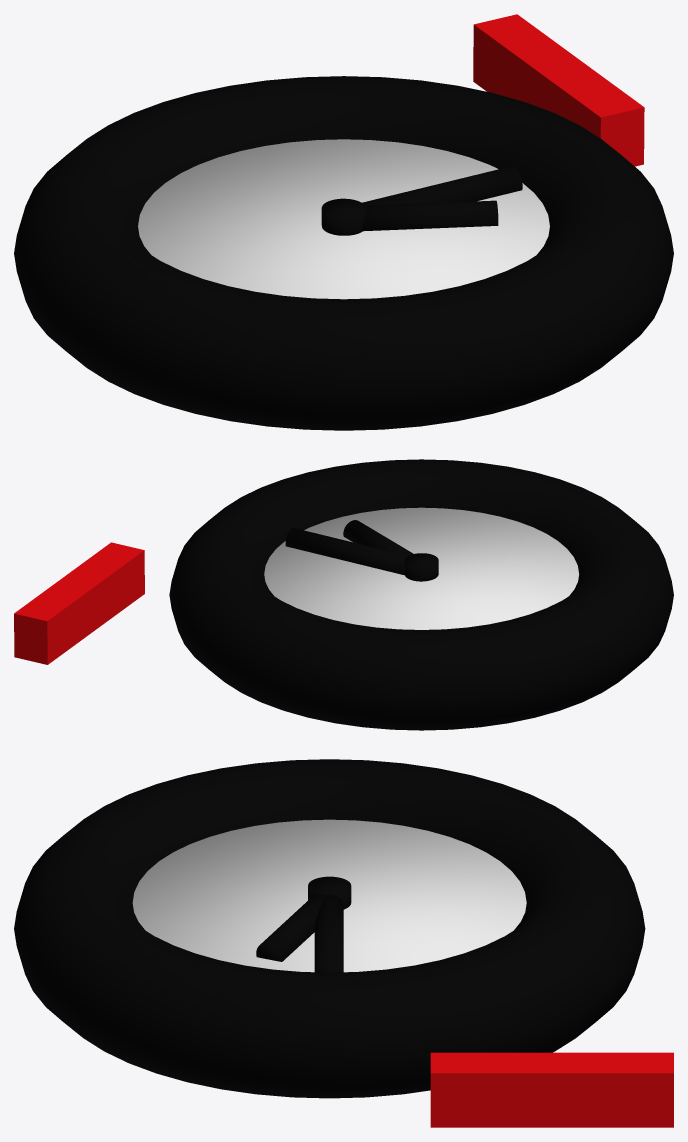
Rendered from KLOK 2.fbx.
3 renders of one model, top to bottom at view 1: azimuth 30°, elevation 25°; view 2: azimuth 150°, elevation 25°; view 3: azimuth 270°, elevation 25°, orthographic. The views are drawn at different scales.
Parts seen in each view (by area): view 1: Zegar -; view 2: Zegar -; view 3: Zegar -.
Part boxes in pixels (x1=…): Zegar -: x1=14, y1=14, x2=673, y2=430; Zegar -: x1=14, y1=459, x2=673, y2=730; Zegar -: x1=14, y1=759, x2=673, y2=1127.
Size of the model in its own units: 2.99 by 0.5353 by 2.8.
